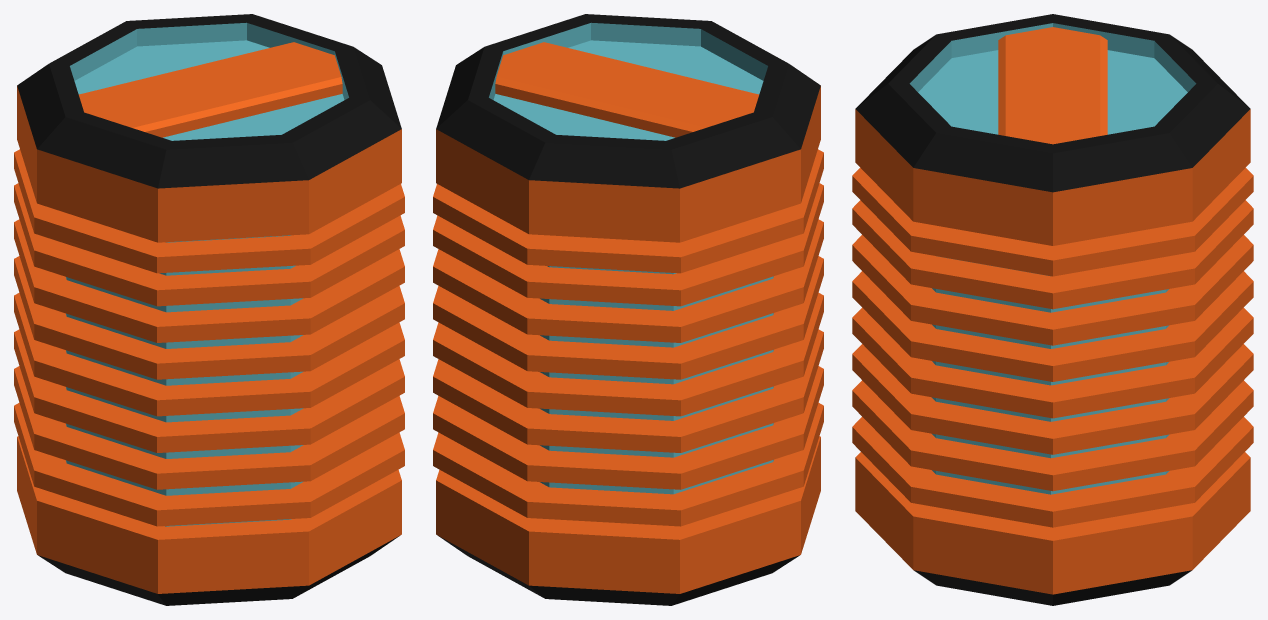
Rendered from Pico_FusionCore.glb.
3 views of the same model, side by side, from view 1: azimuth 30°, elevation 25°; view 2: azimuth 150°, elevation 25°; view 3: azimuth 270°, elevation 25° (orthographic).
Parts seen in each view (by area): view 1: mergedBlocks(Clone); view 2: mergedBlocks(Clone); view 3: mergedBlocks(Clone).
Boxes of the visible parts, <box> form: mergedBlocks(Clone): <box>14,14,404,605</box>; mergedBlocks(Clone): <box>433,14,823,605</box>; mergedBlocks(Clone): <box>852,14,1253,605</box>.
Size of the model in its own units: 1 by 1.24 by 1.
Materials: 1 (1 with a texture image).
